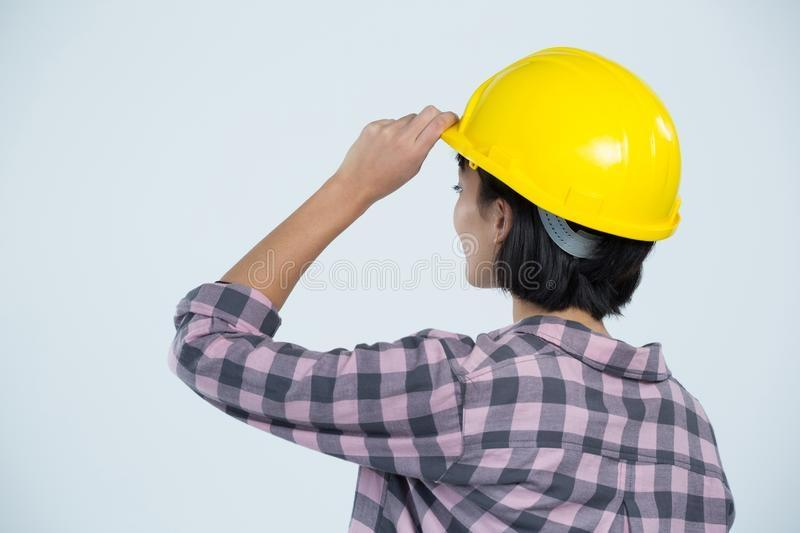helmet: (433, 45, 683, 242)
no_wear: (342, 328, 736, 533)
